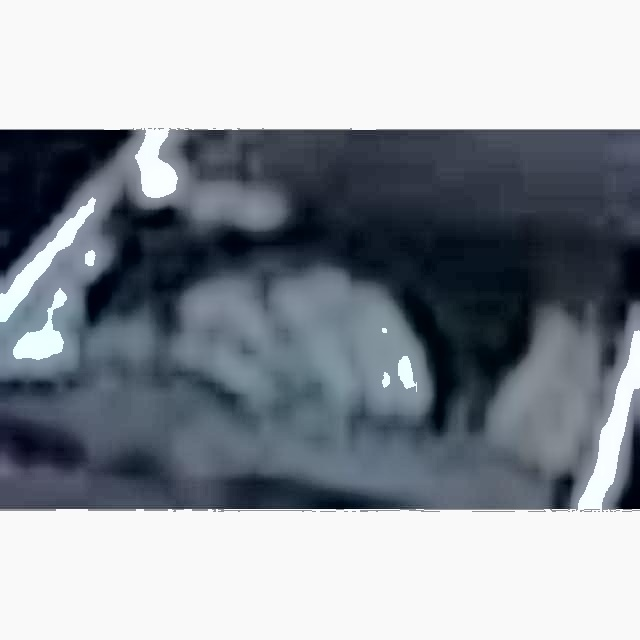pakai: (163, 238, 401, 401)
